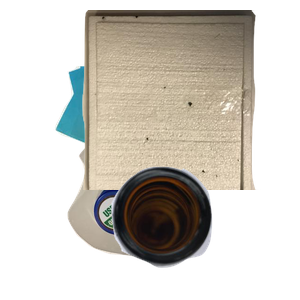glass: (109, 164, 300, 300)
paper: (52, 49, 209, 198)
plastic: (65, 123, 257, 300)
trash: (80, 10, 300, 190)
